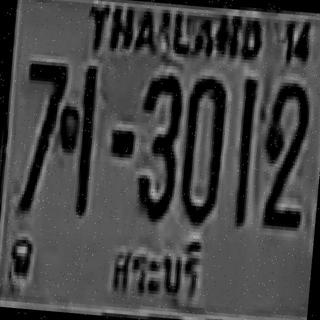N00: (178, 72, 225, 222)
N01: (72, 64, 98, 214), (230, 76, 256, 223)
N02: (257, 76, 311, 226)
N03: (132, 70, 182, 220)
N07: (15, 55, 68, 212), (18, 57, 67, 174)
P60: (105, 228, 217, 312)
